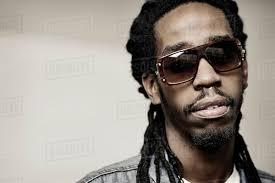sunglasses: (151, 35, 251, 90)
